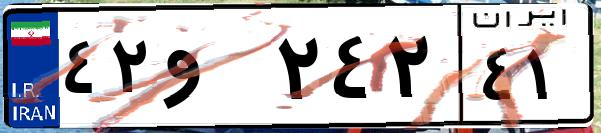1: (525, 38, 570, 115)
2: (270, 28, 330, 110), (385, 28, 445, 110), (110, 28, 158, 98)
4: (330, 28, 385, 110), (57, 26, 110, 100), (475, 38, 525, 113)
و: (158, 20, 270, 120)
